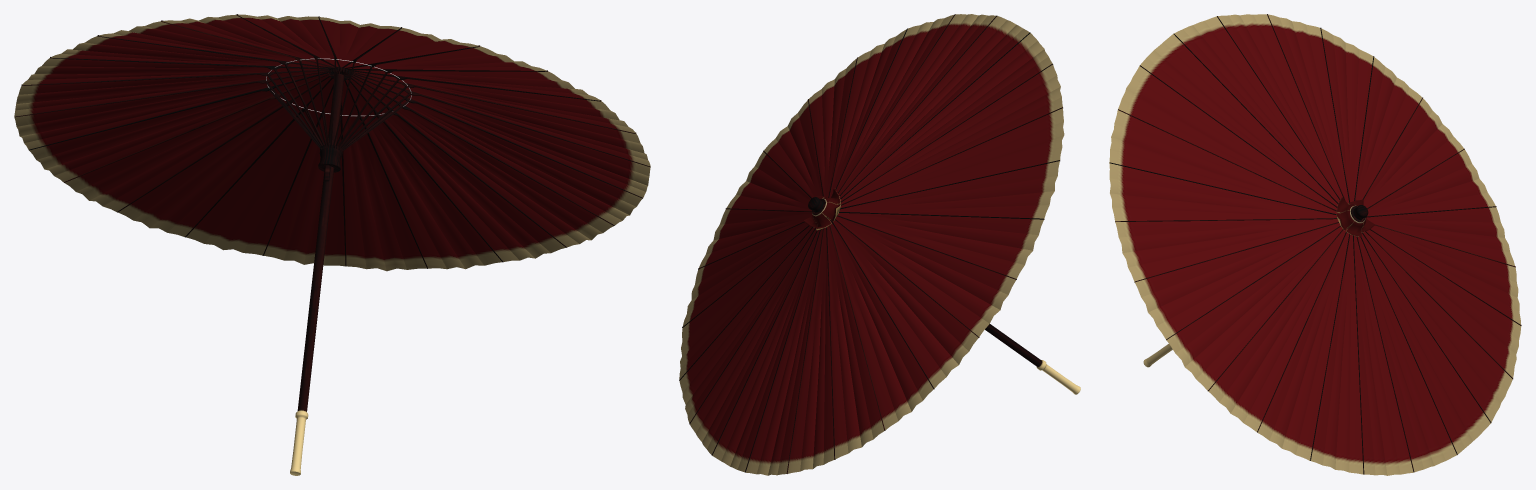
File: umbr.glb
The picture shows the model from 3 angles, left to right: view 1: azimuth 30°, elevation 25°; view 2: azimuth 150°, elevation 25°; view 3: azimuth 270°, elevation 25°; orthographic projection. The views are drawn at different scales.
Visible parts, largest first — view 1: polySurface189, polySurface155; view 2: polySurface207, polySurface155; view 3: polySurface207.
Boxes of the visible parts, x1,y1,x2,y2 form: polySurface189: [14, 15, 650, 271]; polySurface155: [290, 71, 344, 475]; polySurface207: [679, 14, 1064, 475]; polySurface155: [985, 324, 1080, 394]; polySurface207: [1109, 14, 1521, 475].
Size of the model in its own units: 0.5005 by 0.4259 by 0.4567.
Materials: 2 (1 with a texture image).
